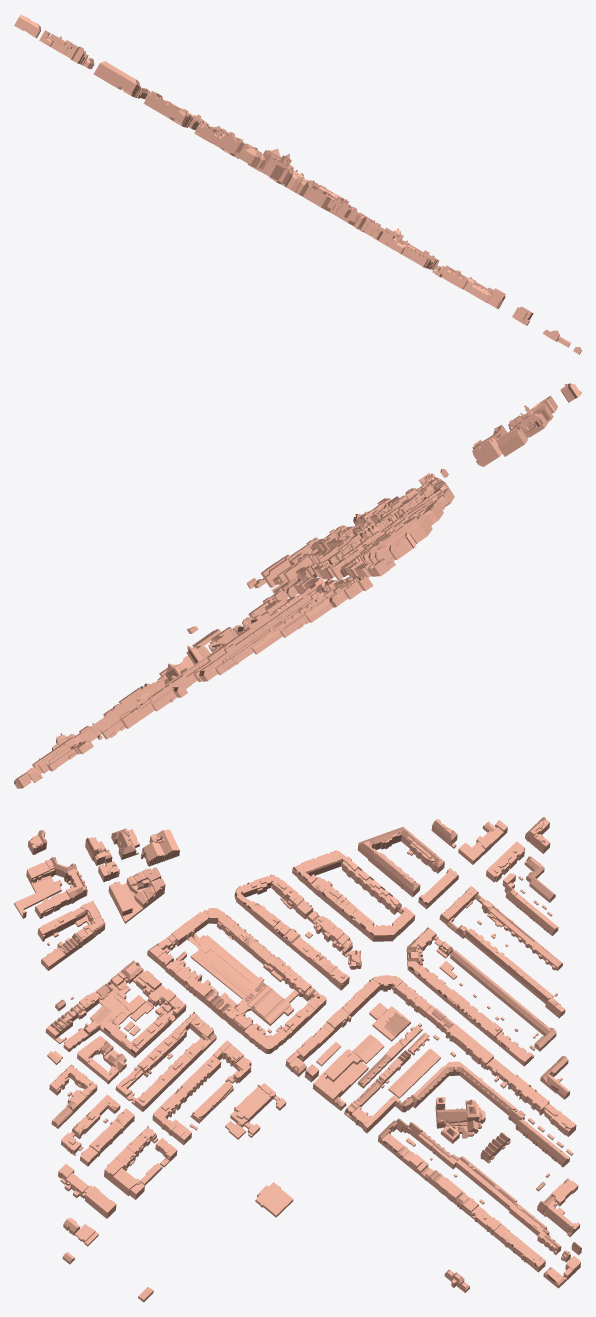
3 views of the same model, one above another, from view 1: azimuth 30°, elevation 25°; view 2: azimuth 150°, elevation 25°; view 3: azimuth 270°, elevation 25° (orthographic). The views are drawn at different scales.
Bounding box in the file's own units: 1.72e+07 × 1.28e+07 × 2.15e+07.
